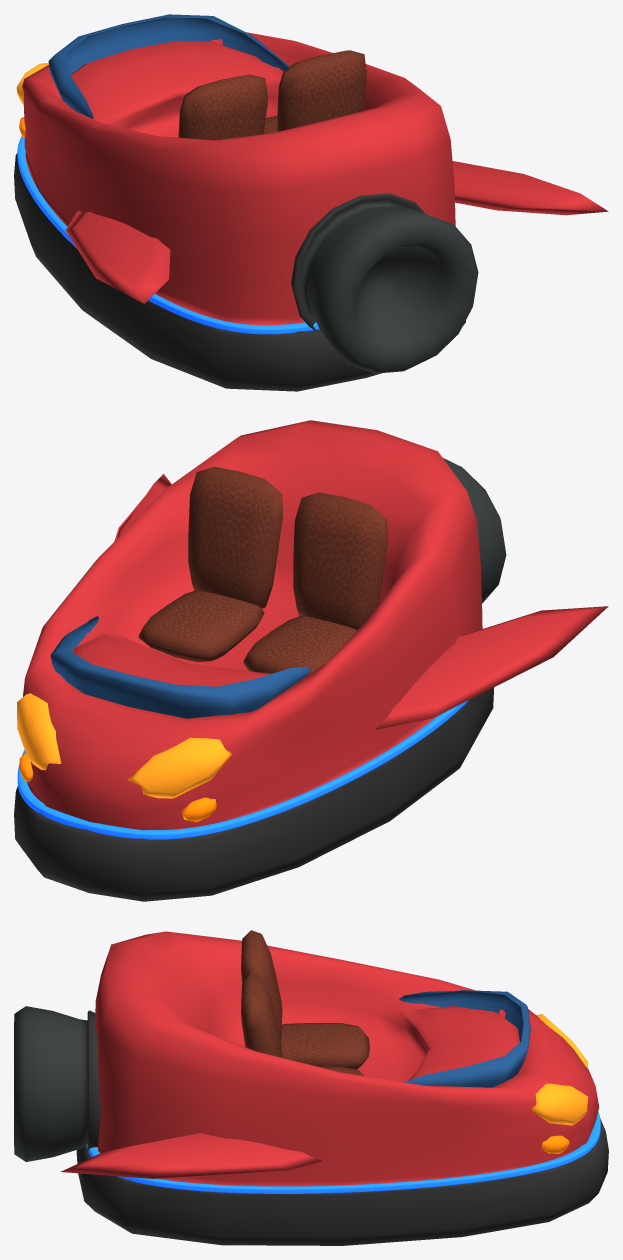
File: Carro _Imaginario_low+ .fbx
The picture shows the model from 3 angles, top to bottom: view 1: azimuth 30°, elevation 25°; view 2: azimuth 150°, elevation 25°; view 3: azimuth 270°, elevation 25°; orthographic projection. The views are drawn at different scales.
Visible parts, largest first — view 1: Cube.055, Cylinder.001, Cube.058, Cube.064, Cube.062, Cube.008; view 2: Cube.055, Cube.064, Cube.058, Cube.062, Cube.056, Cube.008, Cylinder.001, Cube.057; view 3: Cube.055, Cylinder.001, Cube.064, Cube.058, Cube.062, Cube.008, Cube.056.
Boxes of the visible parts, <box> form: Cube.055: <box>14,32,465,391</box>; Cylinder.001: <box>291,193,478,373</box>; Cube.058: <box>65,161,608,303</box>; Cube.064: <box>178,50,366,140</box>; Cube.062: <box>48,14,289,118</box>; Cube.008: <box>17,136,319,334</box>; Cube.055: <box>14,420,494,901</box>; Cube.064: <box>138,466,387,674</box>; Cube.058: <box>114,474,608,730</box>; Cube.062: <box>50,616,311,718</box>; Cube.056: <box>16,693,231,798</box>; Cube.008: <box>17,700,468,839</box>; Cylinder.001: <box>443,458,506,603</box>; Cube.057: <box>19,753,216,822</box>; Cube.055: <box>76,931,608,1245</box>; Cylinder.001: <box>14,1006,101,1161</box>; Cube.064: <box>241,930,369,1075</box>; Cube.058: <box>60,1133,322,1178</box>; Cube.062: <box>399,990,530,1087</box>; Cube.008: <box>86,1112,600,1193</box>; Cube.056: <box>531,1014,588,1125</box>.
Size of the model in its own units: 761 by 421 by 982.
